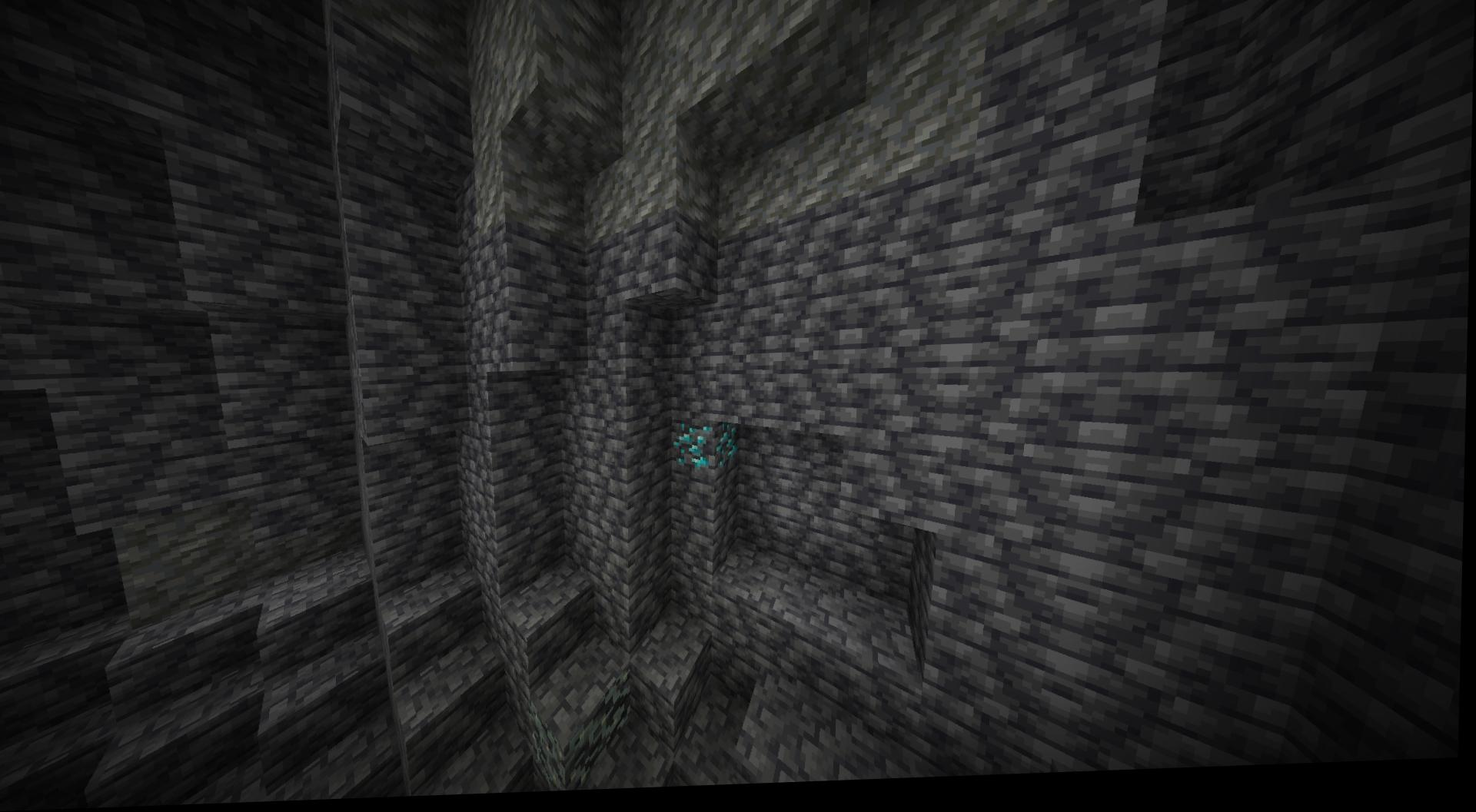diamond ore: (678, 427, 743, 477)
